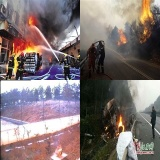fire: (11, 41, 39, 74), (139, 0, 155, 46), (105, 116, 124, 137), (52, 135, 65, 154), (117, 28, 129, 46), (28, 15, 36, 28)
